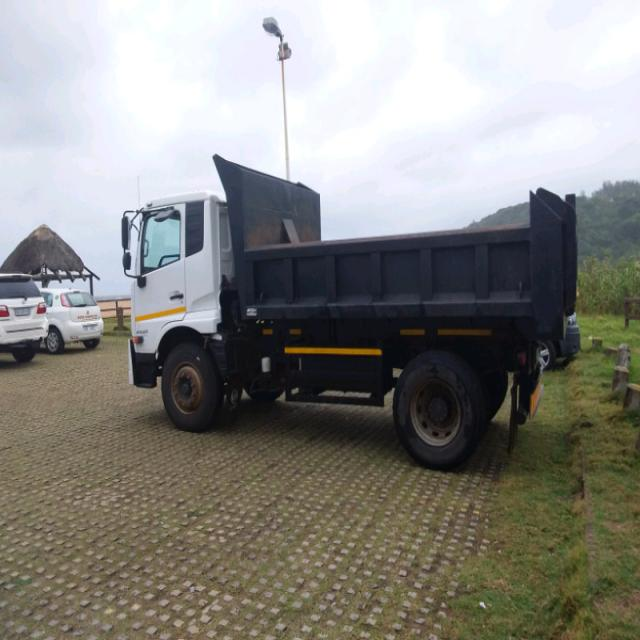dump_truck: (108, 144, 590, 476)
